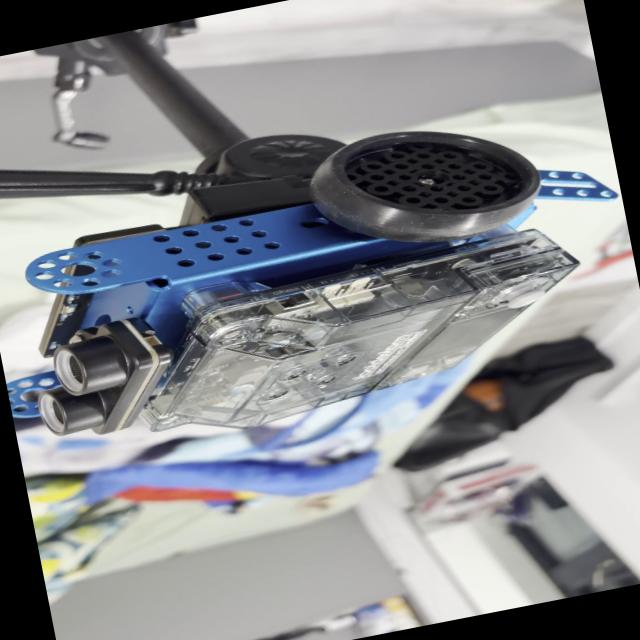mbot-detection: (0, 90, 640, 479)
